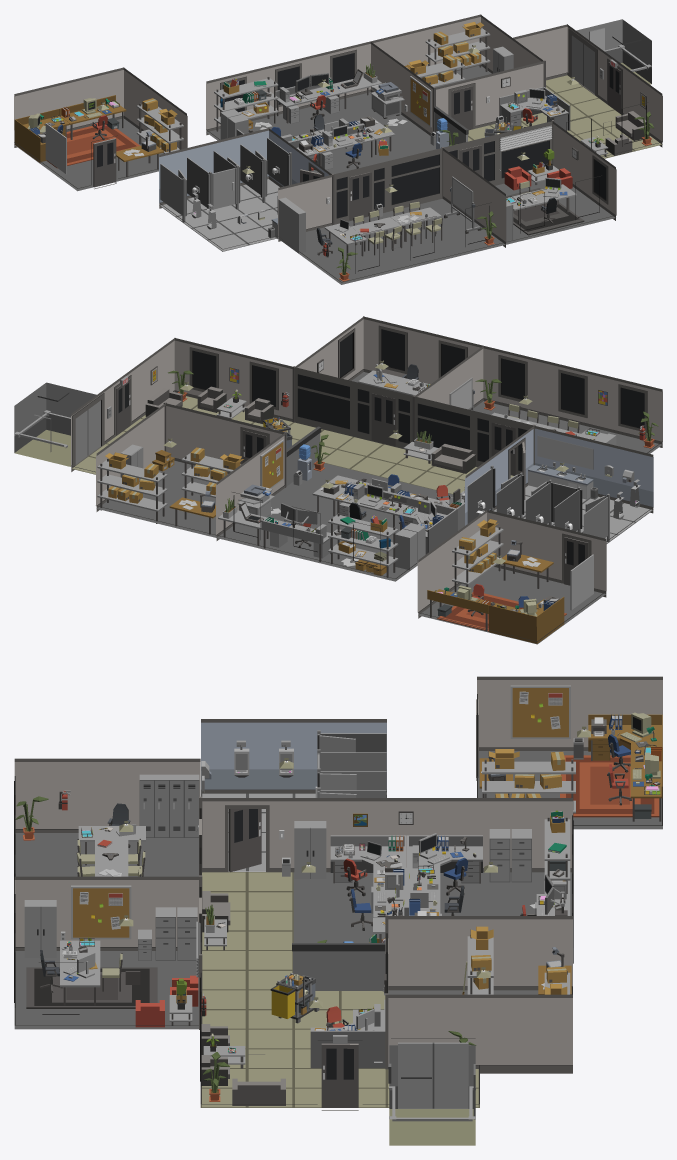
The model's file is simple-office-demo-scene.gltf.
The picture shows the model from 3 angles, top to bottom: view 1: azimuth 30°, elevation 25°; view 2: azimuth 150°, elevation 25°; view 3: azimuth 270°, elevation 25°; orthographic projection. The views are drawn at different scales.
Parts seen in each view (by area): view 1: polySurface1; view 2: polySurface1; view 3: polySurface1.
Part boxes in pixels (x1,y1,x2,y2): polySurface1: [14, 14, 662, 284]; polySurface1: [14, 316, 662, 644]; polySurface1: [14, 676, 662, 1145].
Size of the model in its own units: 49.51 by 5.15 by 34.87.
2 materials, 1 textured.
